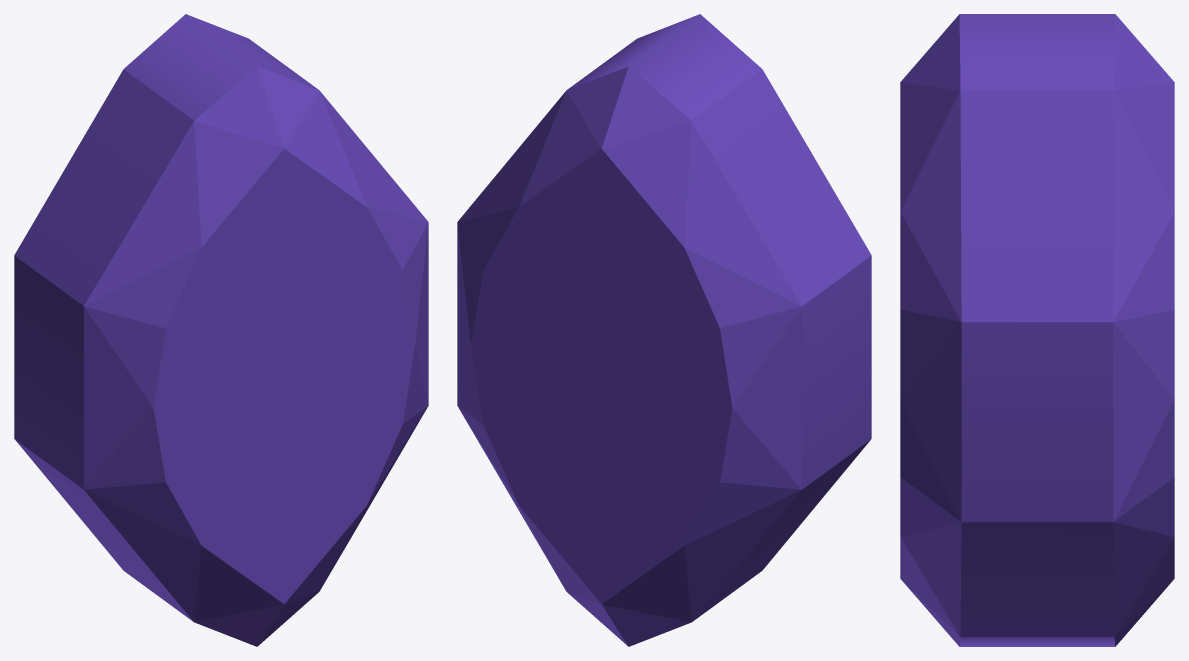
File: Gem_6-2.fbx
3 renders of one model, left to right at view 1: azimuth 30°, elevation 25°; view 2: azimuth 150°, elevation 25°; view 3: azimuth 270°, elevation 25°, orthographic. The views are drawn at different scales.
Parts seen in each view (by area): view 1: Gem_6-2; view 2: Gem_6-2; view 3: Gem_6-2.
Part boxes in pixels (x1,y1,x2,y2): Gem_6-2: (14,14,428,646); Gem_6-2: (457,14,871,646); Gem_6-2: (900,14,1174,646).
Bounding box in the file's own units: 40.44 × 65.05 × 25.53.
